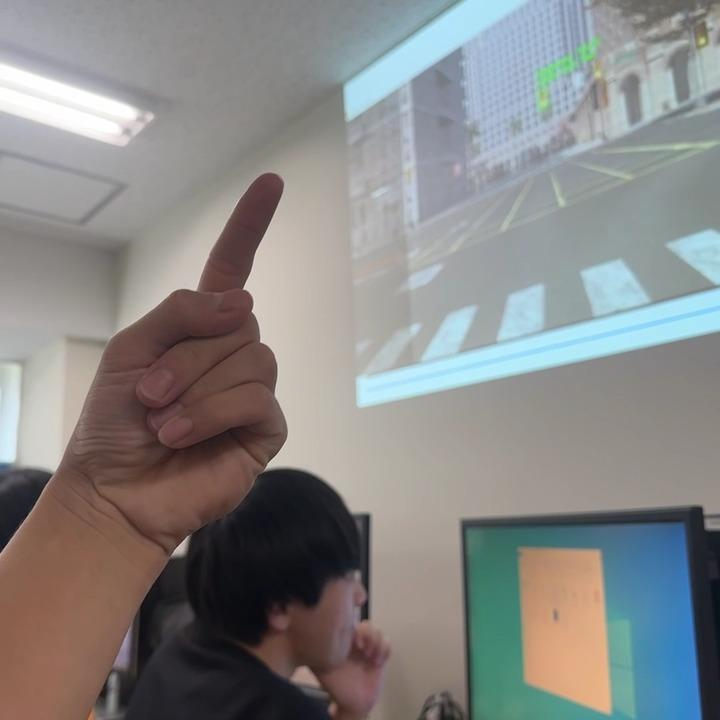without_gloves: (0, 37, 376, 535)
